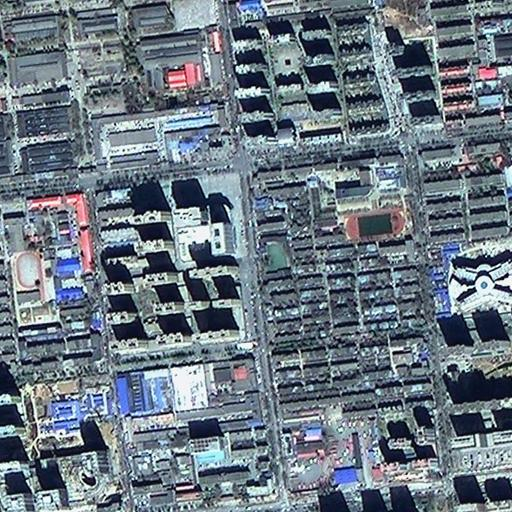school: (332, 164, 412, 238), (259, 231, 292, 282)
